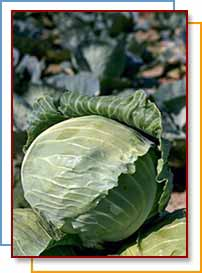cabbage: (11, 88, 184, 257)
